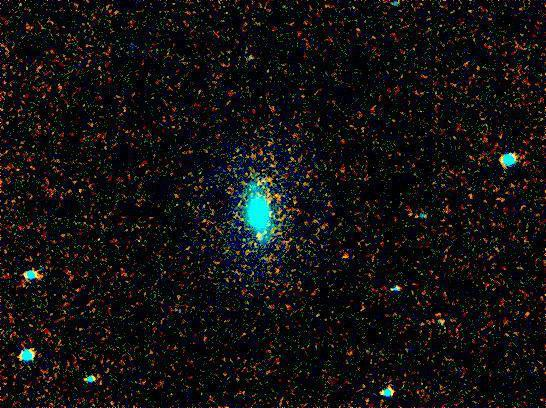star: (247, 227, 277, 257)
